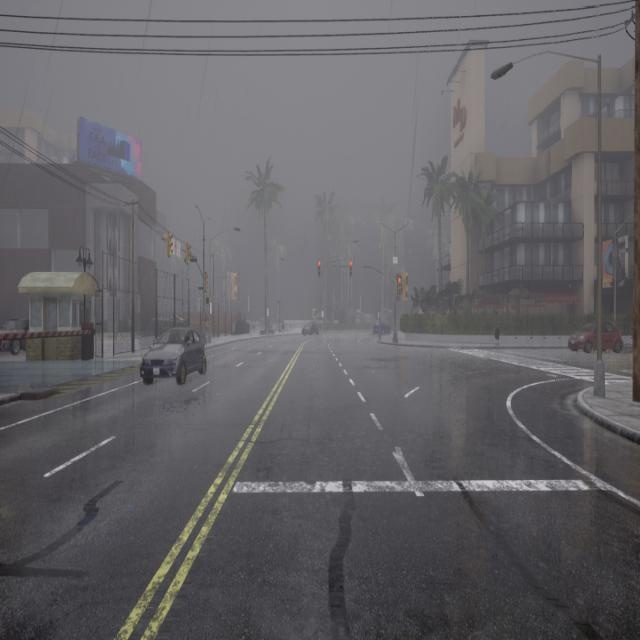bien_chi_dan: (167, 232, 173, 258), (185, 243, 191, 265), (317, 260, 321, 278), (205, 271, 208, 294), (349, 260, 352, 278), (398, 278, 401, 294), (169, 250, 172, 257), (349, 260, 352, 267), (187, 260, 190, 264), (205, 287, 208, 291), (318, 260, 320, 266), (398, 278, 401, 282)
